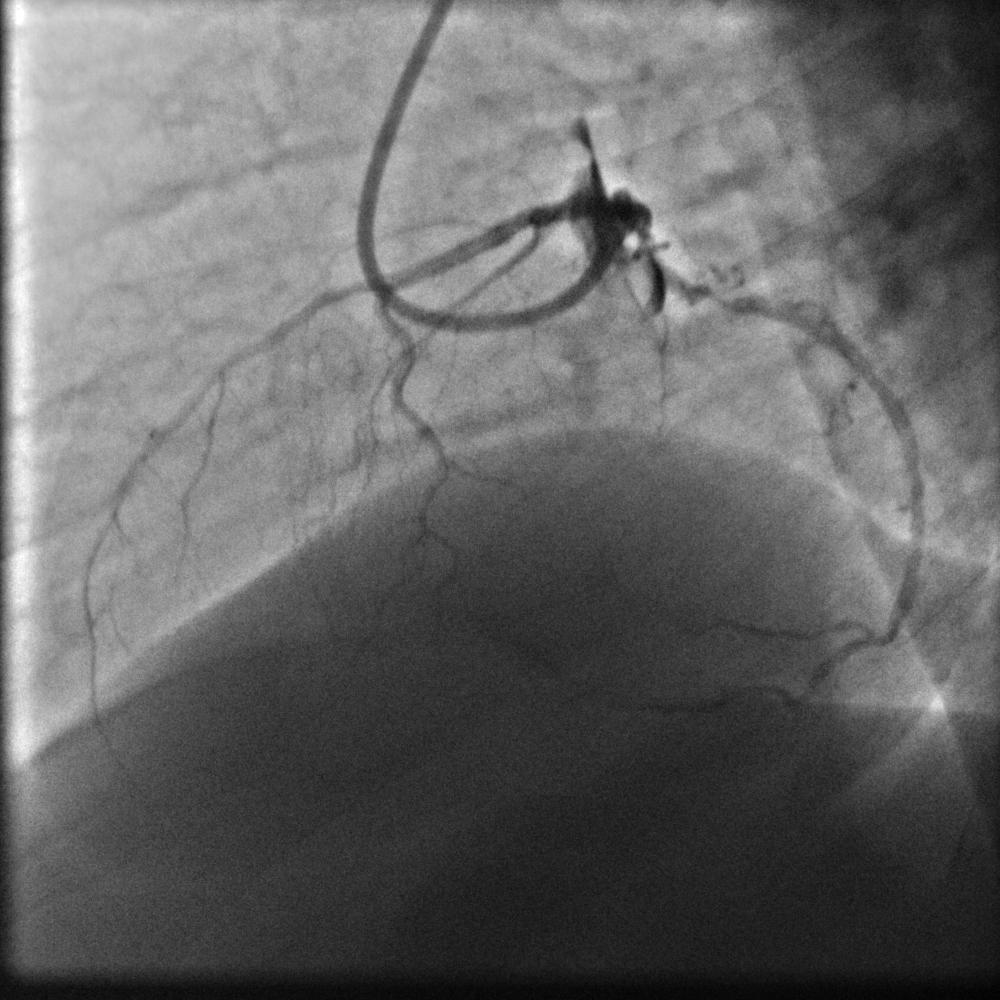Stenosis: (704, 282, 738, 312)
